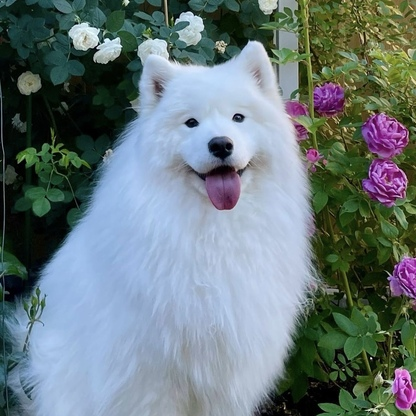samoyed: (1, 34, 327, 416)
